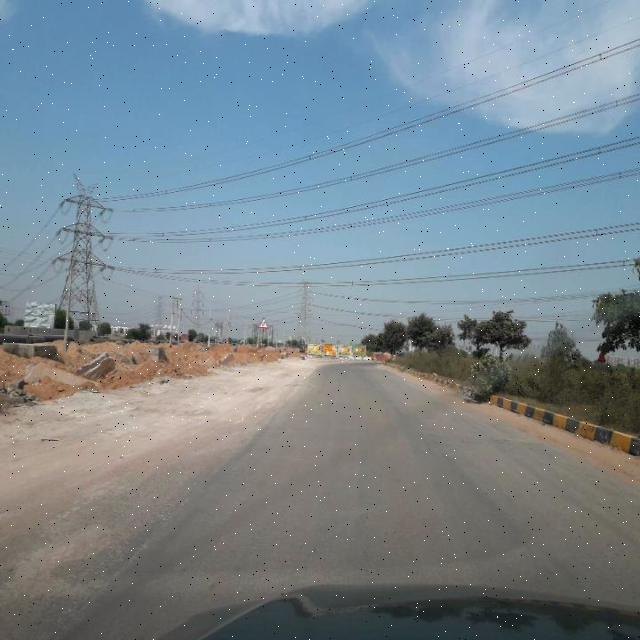D00: (50, 528, 156, 631)
